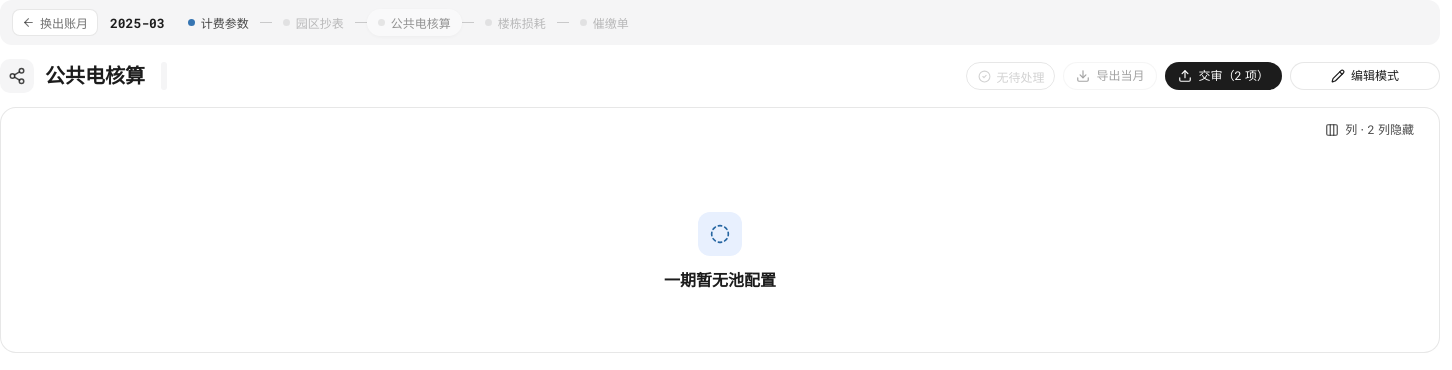
P4-B1 页面三态(03-B) › 这个期区一个池都没有:空状态换掉表格(不是表里一行灰字);编辑态副句指向「新增池」
Expected: the text "一期暂无池配置" is shown, [664,268,776,292]
Step 1. Click the button "编辑模式" → (1365, 76), box [1290,62,1440,90]
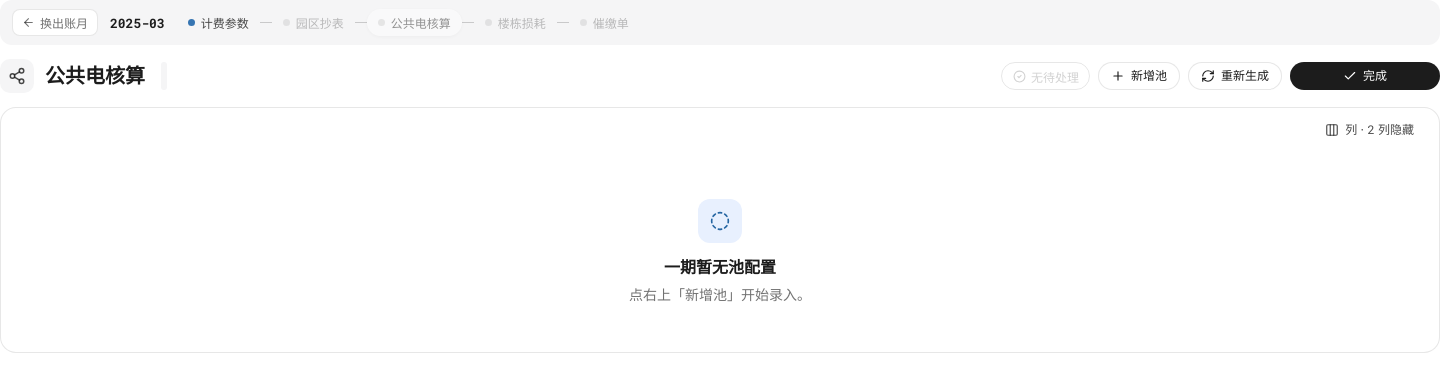
Expected: the text with class "sub" reads "点右上「新增池」开始录入。", [629,286,811,303]
